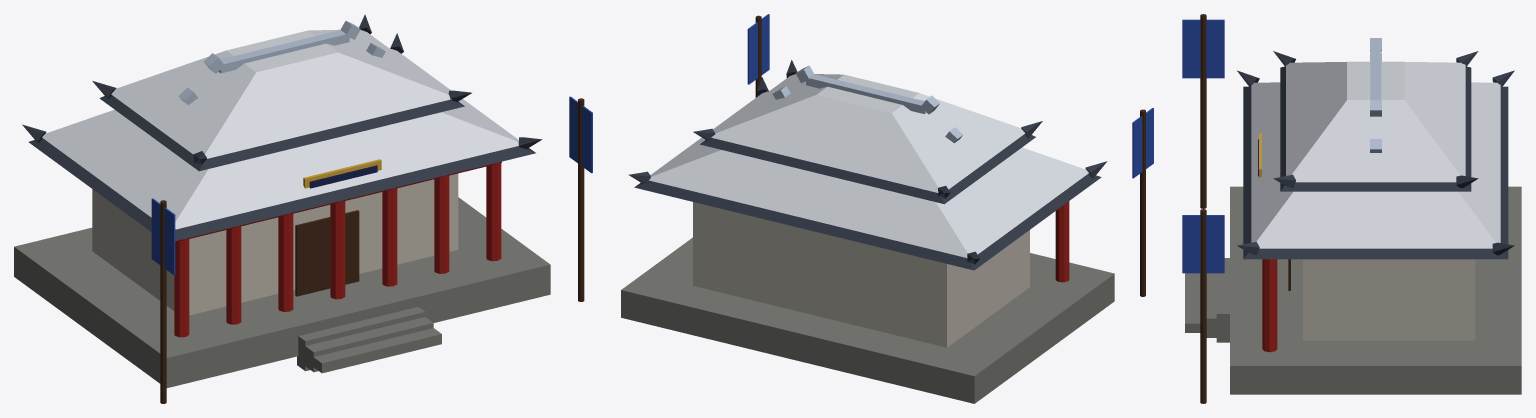
Rendered from SM_GZ_town_hall_frost.fbx.
3 renders of one model, left to right at view 1: azimuth 30°, elevation 25°; view 2: azimuth 150°, elevation 25°; view 3: azimuth 270°, elevation 25°, orthographic. The views are drawn at different scales.
Parts seen in each view (by area): view 1: SM_GZ_town_hall_frost; view 2: SM_GZ_town_hall_frost; view 3: SM_GZ_town_hall_frost.
Boxes of the visible parts, x1,y1,x2,y2 form: SM_GZ_town_hall_frost: [14, 14, 592, 403]; SM_GZ_town_hall_frost: [621, 14, 1153, 403]; SM_GZ_town_hall_frost: [1182, 14, 1521, 403].
Bounding box in the file's own units: 1764 × 1022 × 1280.
